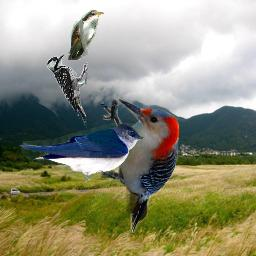Cuckoo: (68, 10, 104, 60)
Swallow: (19, 123, 145, 185)
Woodpecker: (101, 99, 179, 233), (46, 53, 89, 130)
